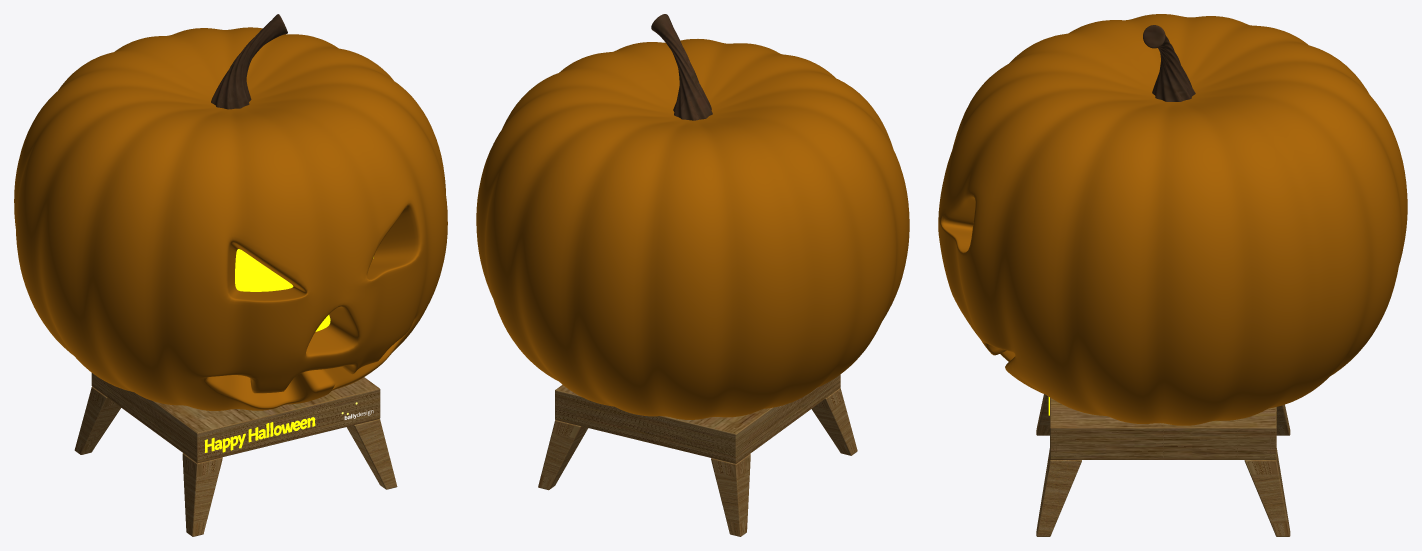
The model's file is bally-pumpkin.glb.
3 renders of one model, left to right at view 1: azimuth 30°, elevation 25°; view 2: azimuth 150°, elevation 25°; view 3: azimuth 270°, elevation 25°, orthographic. The views are drawn at different scales.
Visible parts, largest first — view 1: Merged Objects, Stool:default, Tail:default, Lamp:default; view 2: Merged Objects, Stool:default, Tail:default; view 3: Merged Objects, Stool:default, Tail:default.
Boxes of the visible parts, x1,y1,x2,y2 form: Merged Objects: (14,27,447,410); Stool:default: (74,373,397,536); Tail:default: (211,14,287,109); Lamp:default: (235,249,373,331); Merged Objects: (476,39,909,419); Stool:default: (538,374,857,536); Tail:default: (651,14,712,120); Merged Objects: (938,14,1407,425); Stool:default: (1036,394,1290,536); Tail:default: (1143,25,1195,101).
Size of the model in its own units: 0.0623 by 0.0704 by 0.0626.
19 materials, 3 textured.
